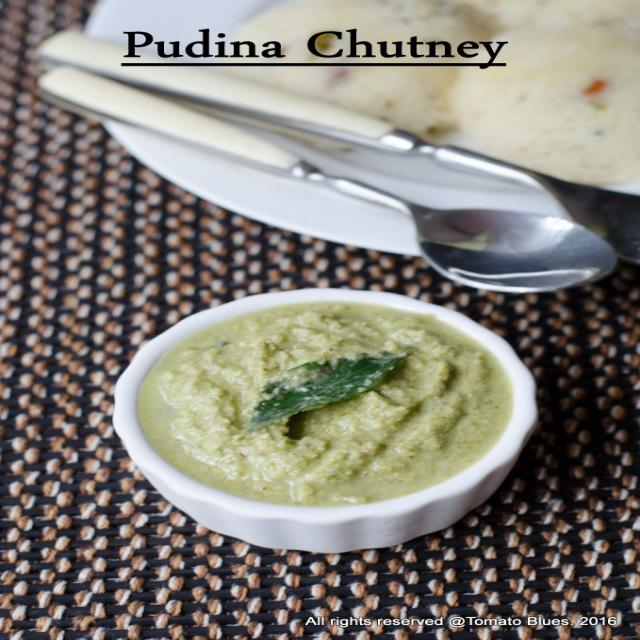puthina chutney: (114, 294, 494, 513)
